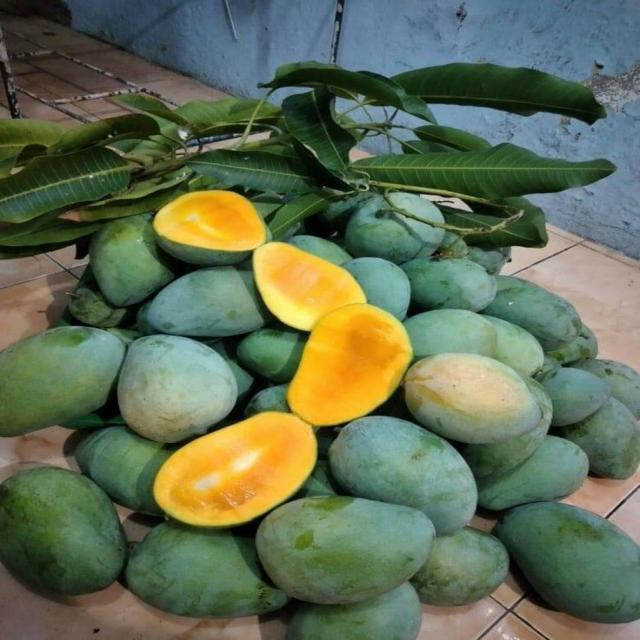mango: (256, 496, 433, 604), (153, 412, 317, 528), (493, 503, 639, 623), (329, 416, 476, 534), (0, 467, 126, 594), (126, 522, 288, 617), (287, 303, 412, 426), (0, 327, 125, 437), (118, 335, 237, 442), (405, 353, 540, 443), (253, 241, 365, 330), (460, 378, 552, 478), (147, 264, 272, 337), (153, 190, 270, 266), (154, 190, 270, 266), (75, 427, 172, 515), (478, 436, 588, 510), (90, 214, 174, 306), (411, 527, 508, 606), (287, 583, 421, 639), (484, 276, 581, 350), (346, 192, 444, 264), (560, 398, 639, 478), (402, 259, 496, 311), (404, 310, 496, 360), (237, 323, 308, 384), (342, 258, 410, 320), (541, 368, 611, 426), (572, 359, 639, 418), (484, 316, 544, 376), (205, 340, 255, 403), (67, 281, 133, 328), (312, 192, 380, 233), (548, 324, 598, 364), (287, 235, 352, 264), (297, 460, 343, 497), (245, 385, 290, 417), (467, 246, 511, 275), (136, 301, 161, 335), (438, 231, 469, 258), (315, 428, 339, 459), (534, 353, 560, 380)
